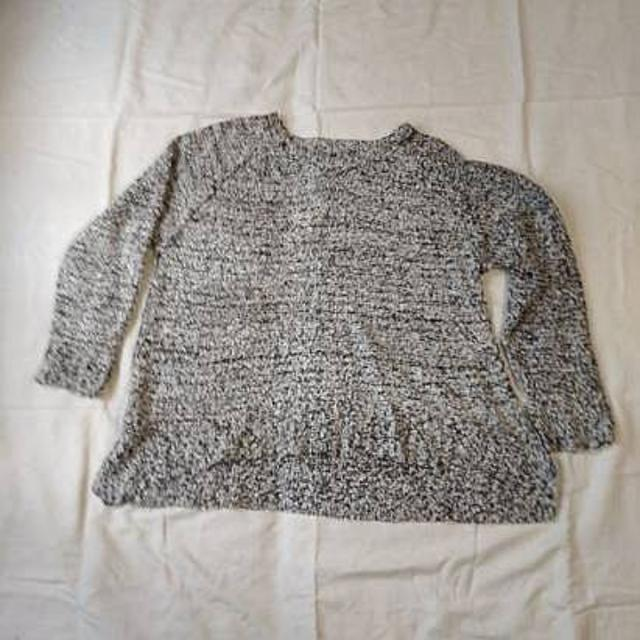T_SHIRT: (21, 102, 640, 528)
